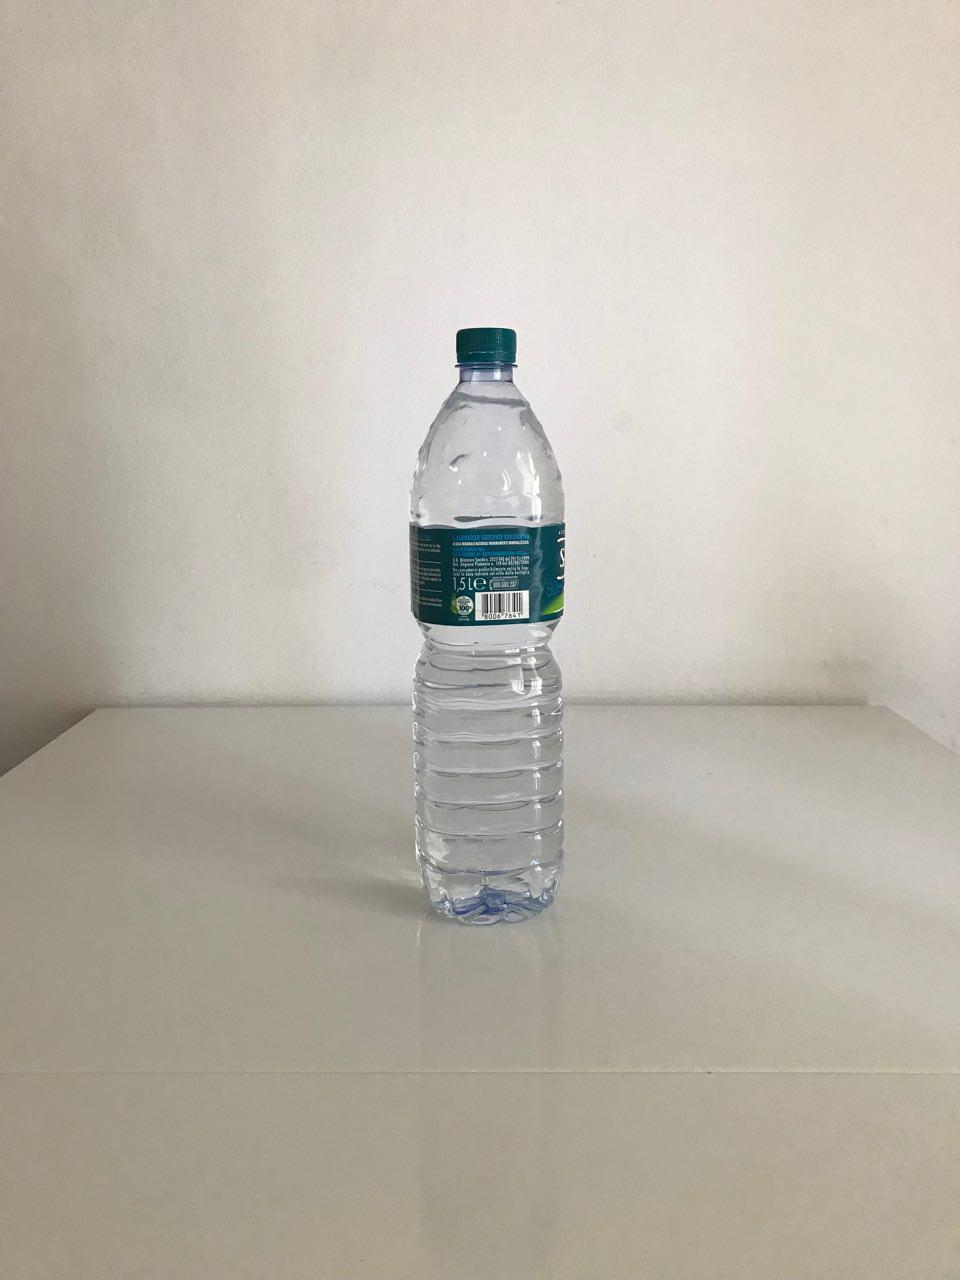san_bernardo: (407, 327, 570, 928)
